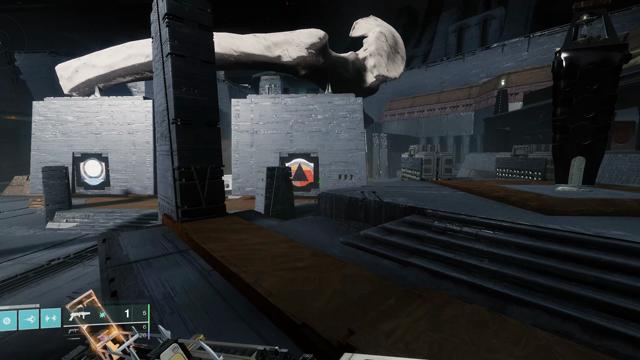pyramid: (286, 158, 315, 187)
traveler: (80, 158, 106, 186)
